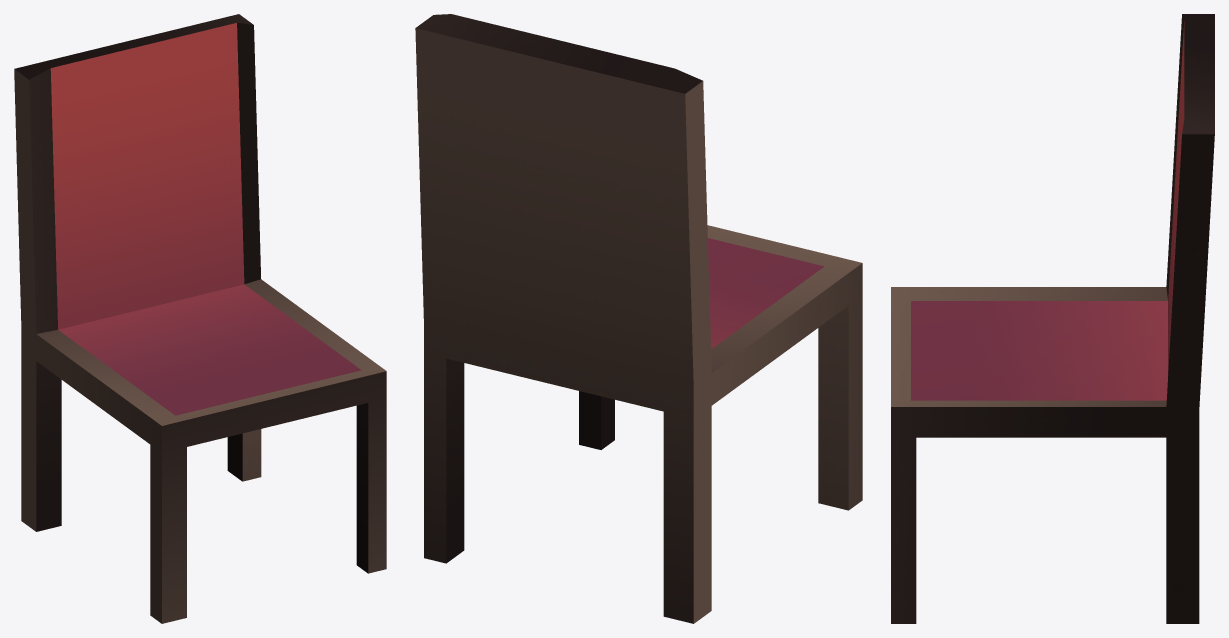
File: chair.fbx
3 views of the same model, side by side, from view 1: azimuth 30°, elevation 25°; view 2: azimuth 150°, elevation 25°; view 3: azimuth 270°, elevation 25° (orthographic). The views are drawn at different scales.
Parts seen in each view (by area): view 1: Box001; view 2: Box001; view 3: Box001.
Part boxes in pixels (x1=…): Box001: x1=14, y1=14, x2=386, y2=623; Box001: x1=415, y1=14, x2=862, y2=623; Box001: x1=891, y1=14, x2=1214, y2=623.
Size of the model in its own units: 48 by 92.28 by 54.64.
